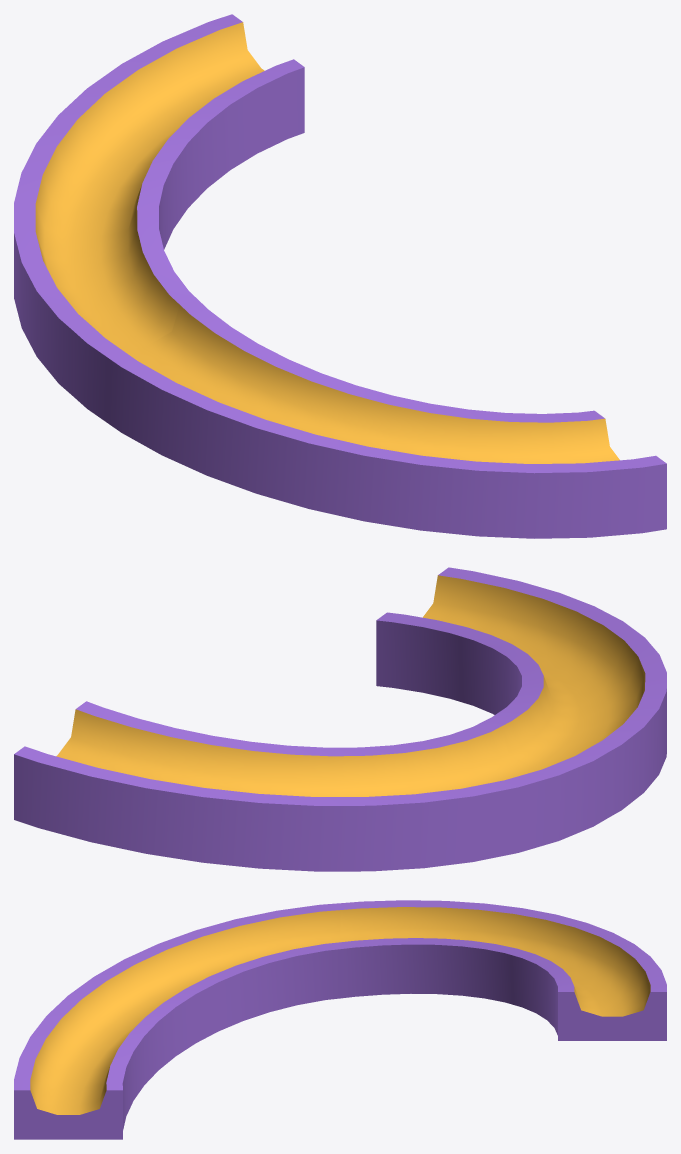
Rendered from helix-large-half-right-col.glb.
3 renders of one model, top to bottom at view 1: azimuth 30°, elevation 25°; view 2: azimuth 150°, elevation 25°; view 3: azimuth 270°, elevation 25°, orthographic. The views are drawn at different scales.
Parts seen in each view (by area): view 1: helix-large-half-right-col; view 2: helix-large-half-right-col; view 3: helix-large-half-right-col.
Part boxes in pixels (<box>): helix-large-half-right-col: <box>14,14,666,538</box>; helix-large-half-right-col: <box>14,567,666,871</box>; helix-large-half-right-col: <box>14,900,666,1139</box>.
Bounding box in the file's own units: 3 × 1.5 × 6.
1 material, 1 textured.
